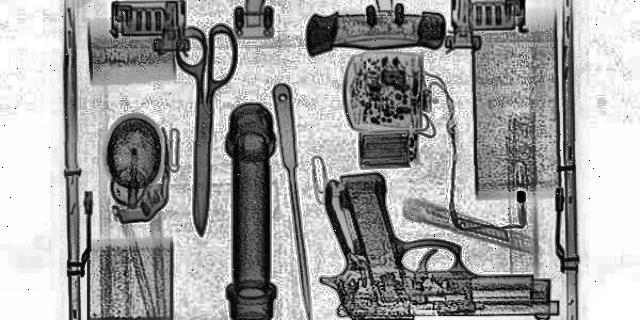Gun: (317, 170, 563, 318)
Knife: (172, 22, 240, 236)
